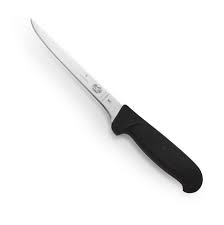knife: (27, 13, 203, 194)
